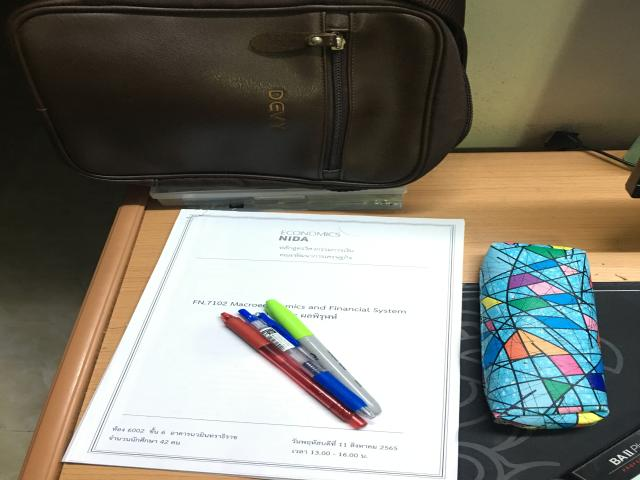Pen: (220, 308, 376, 431), (265, 299, 382, 413)
paper: (63, 210, 463, 480)
